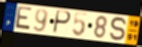5: (72, 11, 90, 38)
8: (93, 15, 108, 40)
9: (32, 9, 51, 33)
E: (13, 6, 33, 32)
P: (52, 10, 72, 35)
S: (109, 16, 128, 42)
